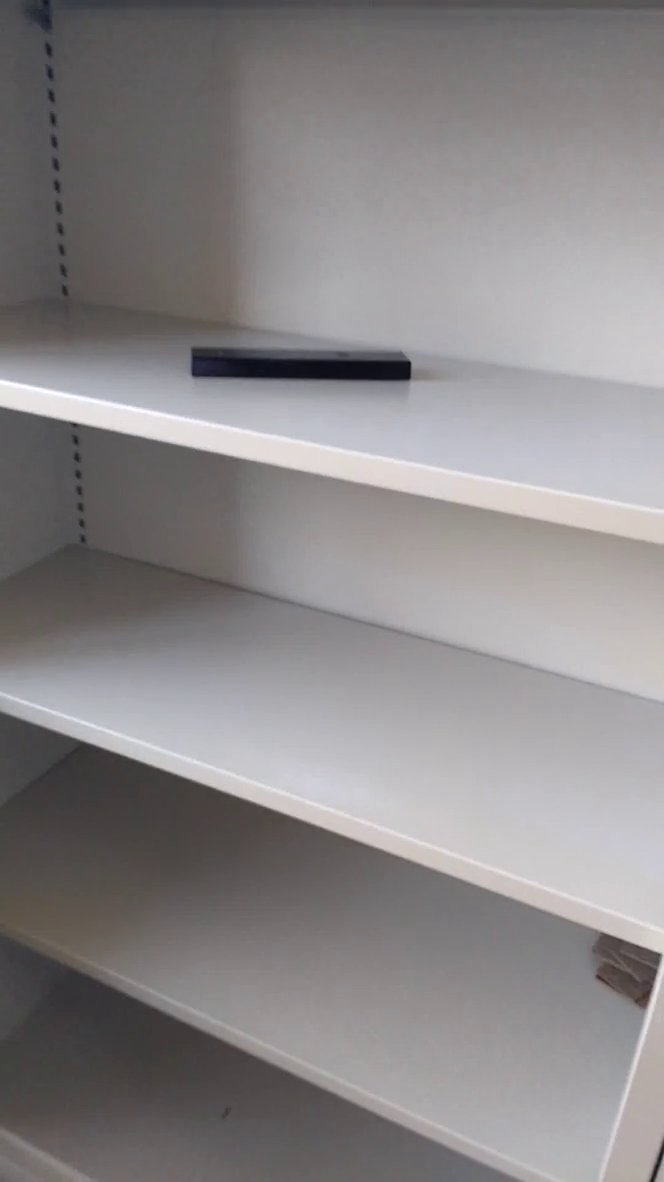remote: (184, 337, 434, 396)
